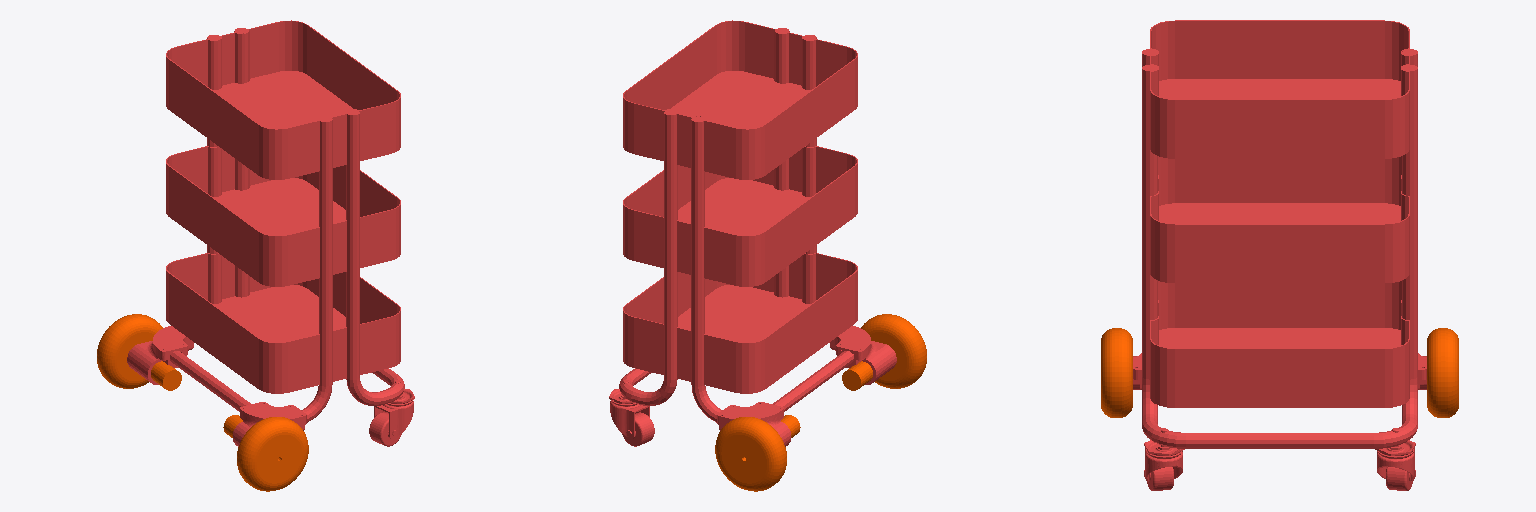
URDF robot description (双轮差动小推车):
<?xml version="1.0"?>
<robot name="双轮差动小推车">

  <link name="base_link">
    <visual>
      <origin xyz="0 0 0" rpy="0 0 0" />
      <geometry>
        <mesh filename="meshes/base_link.STL" />
      </geometry>
      <material>
        <color rgba="1.00000000 0.80000392 0.00000392 1.00000000"/>
      </material>
      <material name="paint_base_link_0_1">
        <color rgba="0.12157255 0.11765098 0.11765098 1.00000000"/>
      </material>
      <material name="paint_base_link_0_2">
        <color rgba="0.33725882 0.65098431 0.94118039 1.00000000"/>
      </material>
      <material name="paint_base_link_0_3">
        <color rgba="0.94118039 0.33725882 0.33725882 1.00000000"/>
      </material>
    </visual>
    <collision>
      <origin xyz="0 0 0" rpy="0 0 0" />
      <geometry>
        <mesh filename="meshes/base_link.STL" />
      </geometry>
    </collision>
    <inertial>
      <origin xyz="-0.0053469 0 0.2699583" rpy="0 0 0" />
      <mass value="2.8878094" />
      <inertia ixx="0.0885297" ixy="0" ixz="-0.0000896" iyy="0.0502666" iyz="0" izz="0.0640522" />
    </inertial>
  </link>

  <link name="Left_wheel">
    <visual>
      <origin xyz="0 0 0" rpy="0 0 0" />
      <geometry>
        <mesh filename="meshes/Left_wheel.STL" />
      </geometry>
      <material>
        <color rgba="0.48235686 0.43529804 0.43529804 1.00000000"/>
      </material>
      <material name="paint_Left_wheel_0_1">
        <color rgba="1.00000000 0.42353333 0.03921961 1.00000000"/>
      </material>
    </visual>
    <collision>
      <origin xyz="0 0 0" rpy="0 0 0" />
      <geometry>
        <mesh filename="meshes/Left_wheel.STL" />
      </geometry>
    </collision>
    <inertial>
      <origin xyz="0 0 0.114651" rpy="0 0 0" />
      <mass value="0.5748957" />
      <inertia ixx="0.0005663" ixy="0" ixz="0" iyy="0.0005663" iyz="0" izz="0.0008792" />
    </inertial>
  </link>

  <link name="Right_wheel">
    <visual>
      <origin xyz="0 0 0" rpy="0 0 0" />
      <geometry>
        <mesh filename="meshes/Right_wheel.STL" />
      </geometry>
      <material>
        <color rgba="0.48235686 0.43529804 0.43529804 1.00000000"/>
      </material>
      <material name="paint_Right_wheel_0_1">
        <color rgba="1.00000000 0.42353333 0.03921961 1.00000000"/>
      </material>
    </visual>
    <collision>
      <origin xyz="0 0 0" rpy="0 0 0" />
      <geometry>
        <mesh filename="meshes/Right_wheel.STL" />
      </geometry>
    </collision>
    <inertial>
      <origin xyz="0 0 0.114651" rpy="0 0 0" />
      <mass value="0.5748957" />
      <inertia ixx="0.0005663" ixy="0" ixz="0" iyy="0.0005663" iyz="0" izz="0.0008792" />
    </inertial>
  </link>

  <joint name="left_wheel_joint" type="continuous">
    <parent link="base_link" />
    <child link="Left_wheel" />
    <origin xyz="-0.1502521 0.098 0.0625" rpy="1.5707963 0 3.1415927" />
    <axis xyz="0 0 1" />
  </joint>

  <joint name="right_wheel_joint" type="continuous">
    <parent link="base_link" />
    <child link="Right_wheel" />
    <origin xyz="-0.1502521 -0.098 0.0625" rpy="1.5707963 0 0" />
    <axis xyz="0 0 1" />
  </joint>

</robot>

--- What the picture shows (computed from the rendered views, not written in the file) ---
3 views of the same robot in one strip: view 1: azimuth 30°, elevation 25°; view 2: azimuth 150°, elevation 25°; view 3: azimuth 270°, elevation 25° (orthographic).
Model 双轮差动小推车 with 3 links and 2 joints (2 continuous), rooted at base_link, posed all joints at 0.
Visible links, largest first — view 1: base_link, Right_wheel, Left_wheel; view 2: base_link, Left_wheel, Right_wheel; view 3: base_link, Left_wheel, Right_wheel.
Boxes of the visible links, x1,y1,x2,y2 form: base_link: (127, 20, 414, 446); Right_wheel: (223, 415, 308, 491); Left_wheel: (97, 314, 181, 390); base_link: (609, 20, 896, 446); Left_wheel: (715, 415, 800, 491); Right_wheel: (842, 314, 926, 390); base_link: (1133, 20, 1426, 490); Left_wheel: (1427, 328, 1458, 417); Right_wheel: (1101, 328, 1132, 417).
Size in the robot's own frame: 0.3613 by 0.496 by 0.61 metres.
3 mesh visuals loaded from 3 distinct referenced files (3 binary STL).
